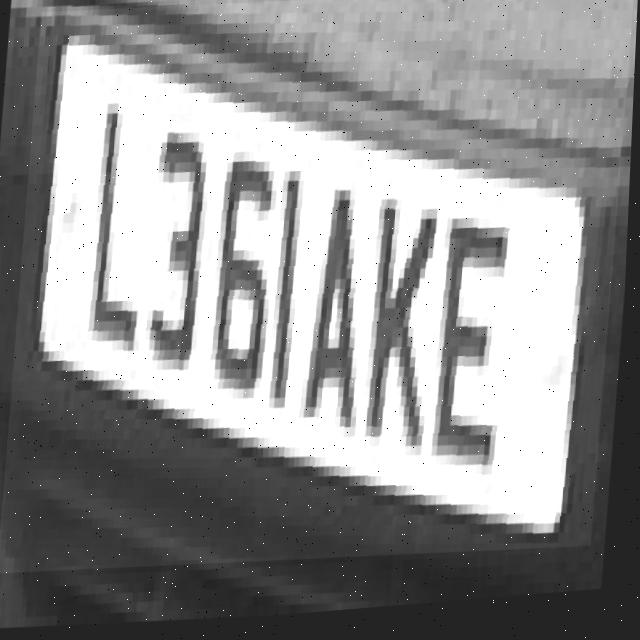LicensePlate: (1, 0, 635, 594)
